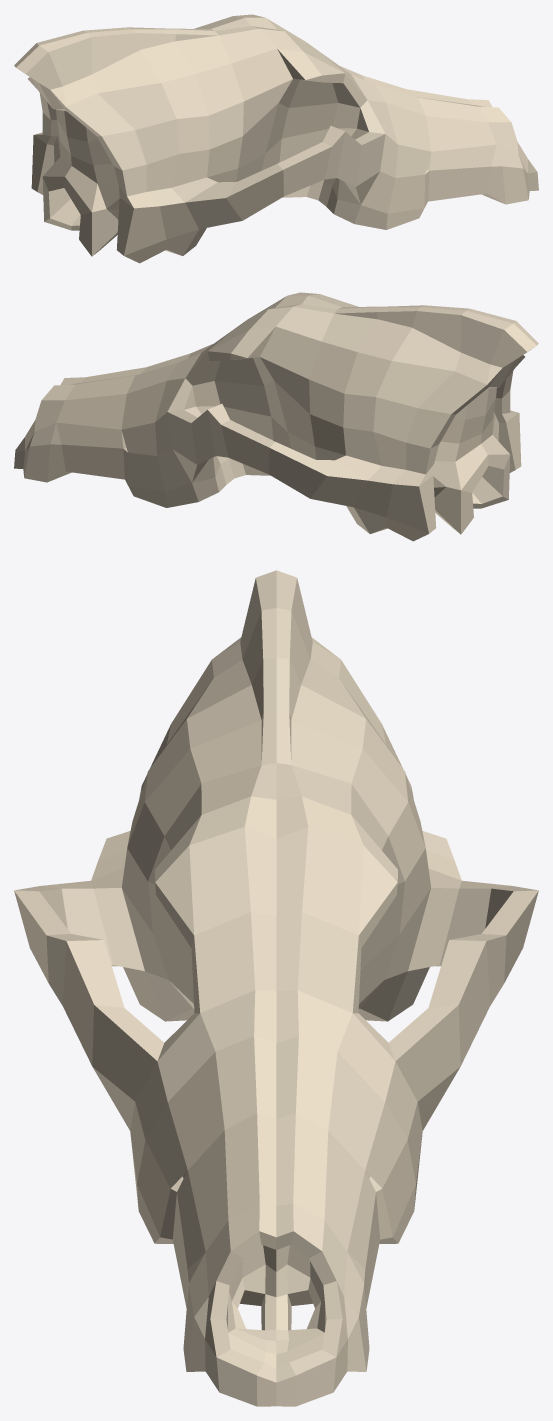
File: wolf skull top1000.fbx
The picture shows the model from 3 angles, top to bottom: view 1: azimuth 30°, elevation 25°; view 2: azimuth 150°, elevation 25°; view 3: azimuth 270°, elevation 25°; orthographic projection. The views are drawn at different scales.
Visible parts, largest first — view 1: Skull Top; view 2: Skull Top; view 3: Skull Top.
Boxes of the visible parts, x1,y1,x2,y2 form: Skull Top: (14,14,538,263); Skull Top: (14,292,538,541); Skull Top: (14,570,538,1406).
Bounding box in the file's own units: 2351092 × 1118857 × 1227606.
